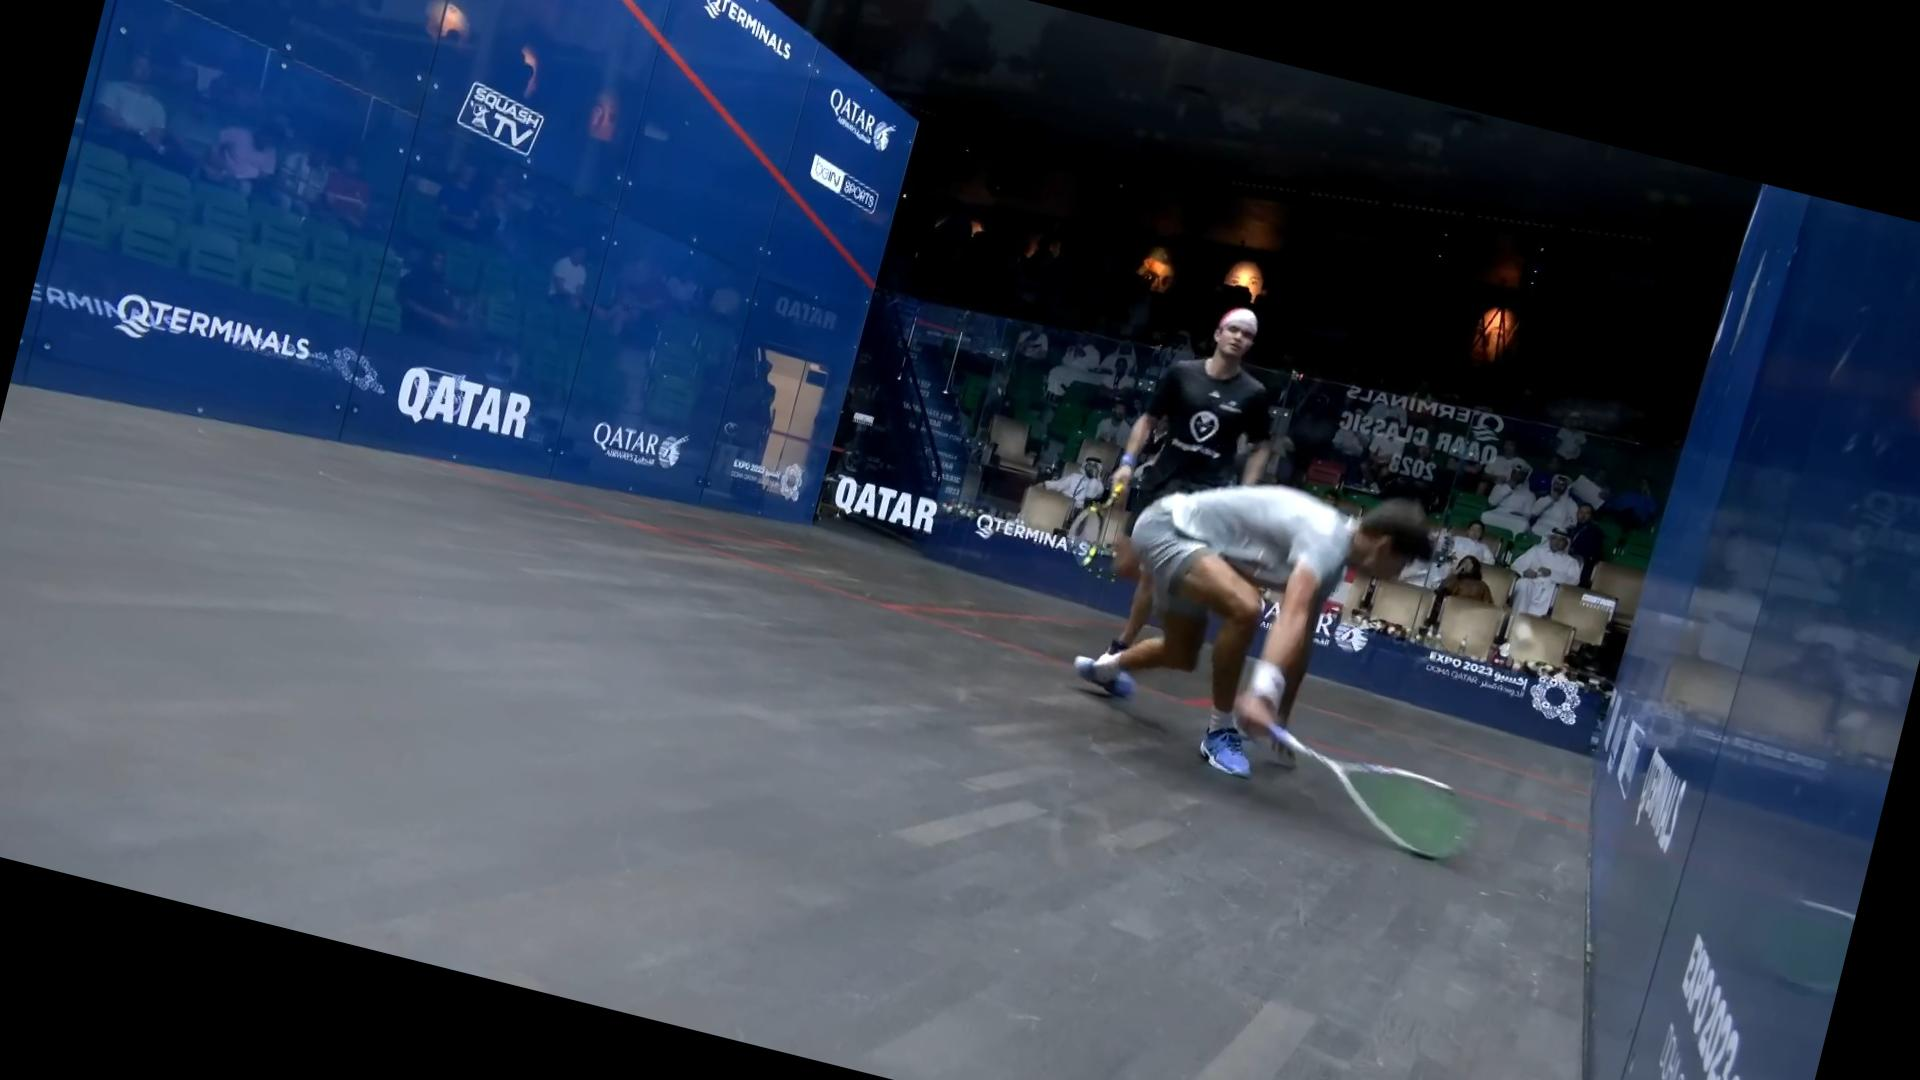Racket: (1250, 724, 1477, 866), (1051, 468, 1131, 582)
